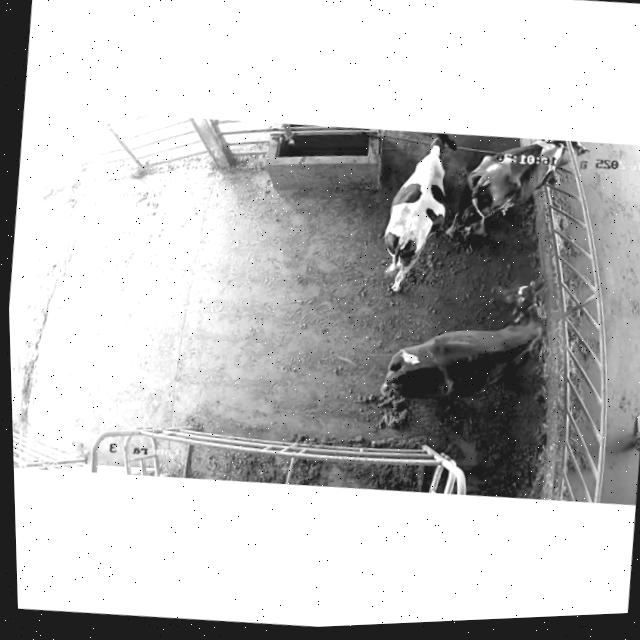stand: (362, 267, 555, 440), (363, 125, 464, 306)
